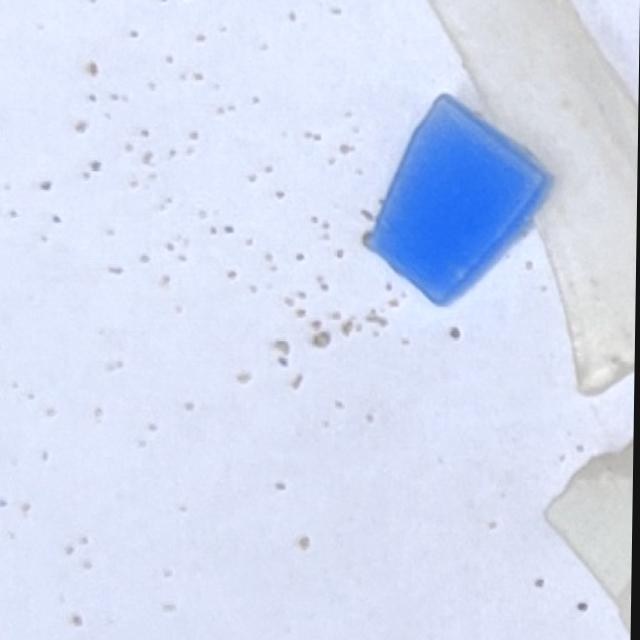microplastic: (341, 91, 564, 320)
